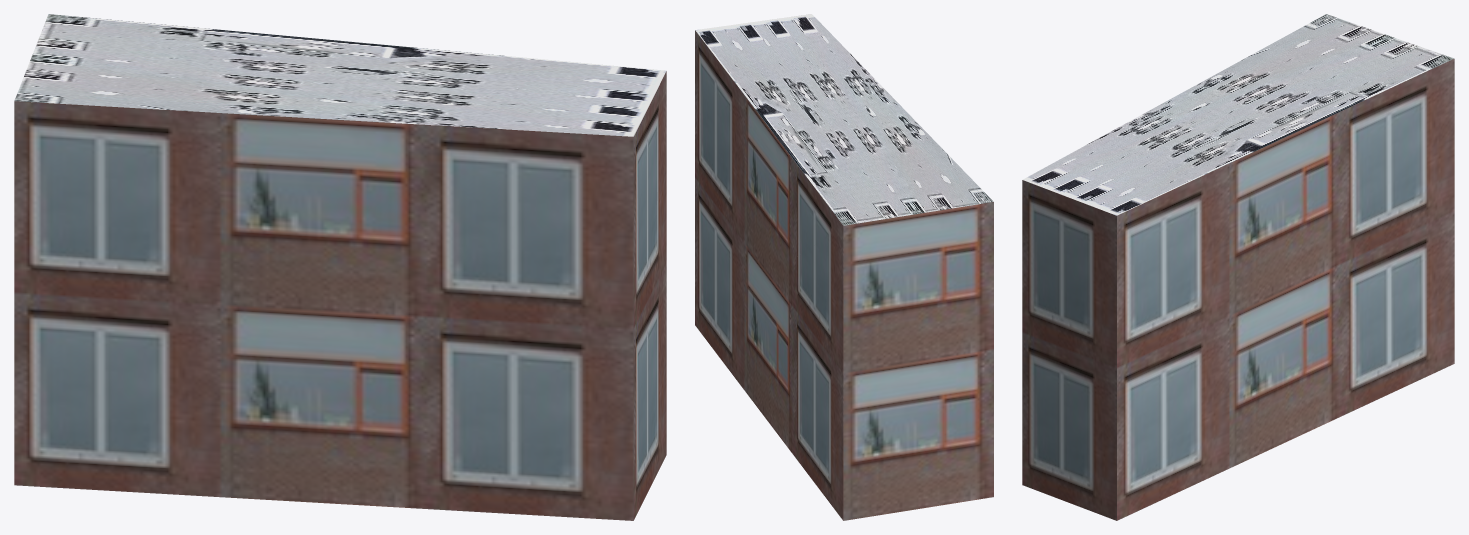
The model's file is ResTex__3395.fbx.
3 renders of one model, left to right at view 1: azimuth 30°, elevation 25°; view 2: azimuth 150°, elevation 25°; view 3: azimuth 270°, elevation 25°, orthographic. The views are drawn at different scales.
Visible parts, largest first — view 1: CityEngineMaterial_19_m, CityEngineMaterial_15_m; view 2: CityEngineMaterial_19_m, CityEngineMaterial_15_m; view 3: CityEngineMaterial_19_m, CityEngineMaterial_15_m.
Boxes of the visible parts, box(x1,y1,x2,y2) form: CityEngineMaterial_19_m: box(14, 71, 666, 520); CityEngineMaterial_15_m: box(14, 14, 666, 136); CityEngineMaterial_19_m: box(695, 30, 993, 520); CityEngineMaterial_15_m: box(695, 14, 993, 225); CityEngineMaterial_19_m: box(1022, 59, 1454, 520); CityEngineMaterial_15_m: box(1023, 14, 1454, 215).
Size of the model in its own units: 8.51 by 6 by 7.7.
2 materials, 2 textured.
